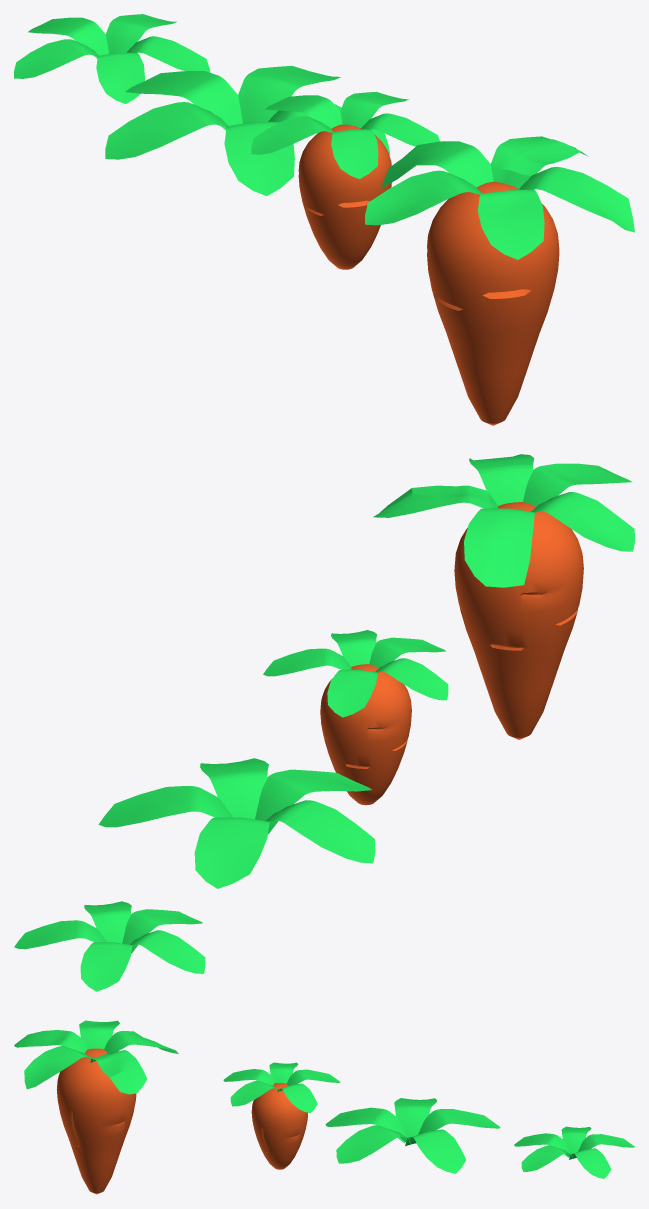
File: Morkovka.fbx
The picture shows the model from 3 angles, top to bottom: view 1: azimuth 30°, elevation 25°; view 2: azimuth 150°, elevation 25°; view 3: azimuth 270°, elevation 25°; orthographic projection. The views are drawn at different scales.
Parts seen in each view (by area): view 1: Sphere.001, Sphere, Plane.002, Plane.001; view 2: Sphere.001, Plane.002, Sphere, Plane.001; view 3: Sphere.001, Plane.002, Sphere, Plane.001.
Part boxes in pixels (<box>): Sphere.001: <box>365,136,634,425</box>; Sphere: <box>251,91,439,269</box>; Plane.002: <box>105,65,390,195</box>; Plane.001: <box>14,14,210,104</box>; Sphere.001: <box>373,454,634,739</box>; Plane.002: <box>98,758,375,888</box>; Sphere: <box>263,630,448,805</box>; Plane.001: <box>14,901,205,991</box>; Sphere.001: <box>14,1020,178,1194</box>; Plane.002: <box>325,1098,500,1173</box>; Sphere: <box>223,1062,340,1169</box>; Plane.001: <box>514,1126,634,1178</box>.
Size of the model in its own units: 629 by 600 by 2195.
